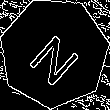N_NE: (23, 21, 86, 85)
